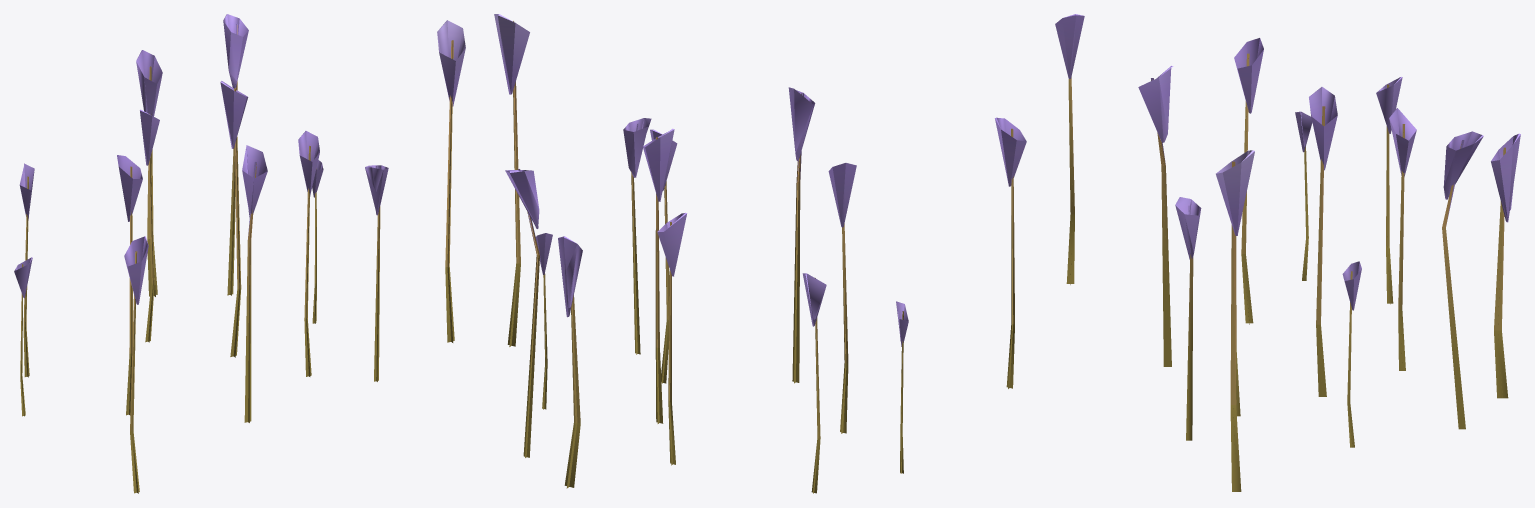
Rendered from flower_lavender_low.glb.
3 views of the same model, side by side, from view 1: azimuth 30°, elevation 25°; view 2: azimuth 150°, elevation 25°; view 3: azimuth 270°, elevation 25° (orthographic). The views are drawn at different scales.
Parts seen in each view (by area): view 1: Flower 5_2_C; view 2: Flower 5_2_C; view 3: Flower 5_2_C.
Part boxes in pixels (x1,y1,x2,y2): Flower 5_2_C: [14, 14, 465, 493]; Flower 5_2_C: [494, 14, 1026, 493]; Flower 5_2_C: [1055, 14, 1520, 491].
Size of the model in its own units: 0.5006 by 0.36 by 0.4419.
1 material, 1 textured.
